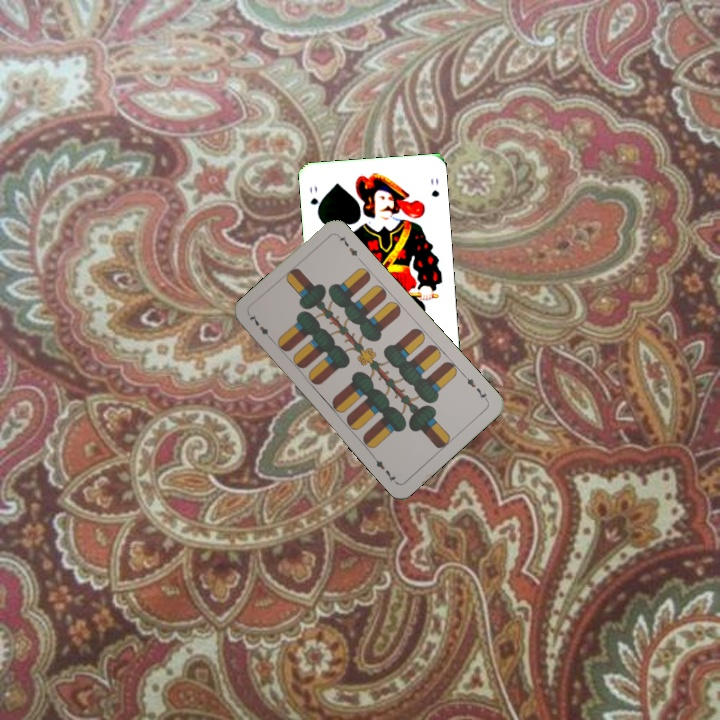E7: (245, 310, 276, 344), (460, 371, 491, 404)
GO: (305, 181, 323, 217)
